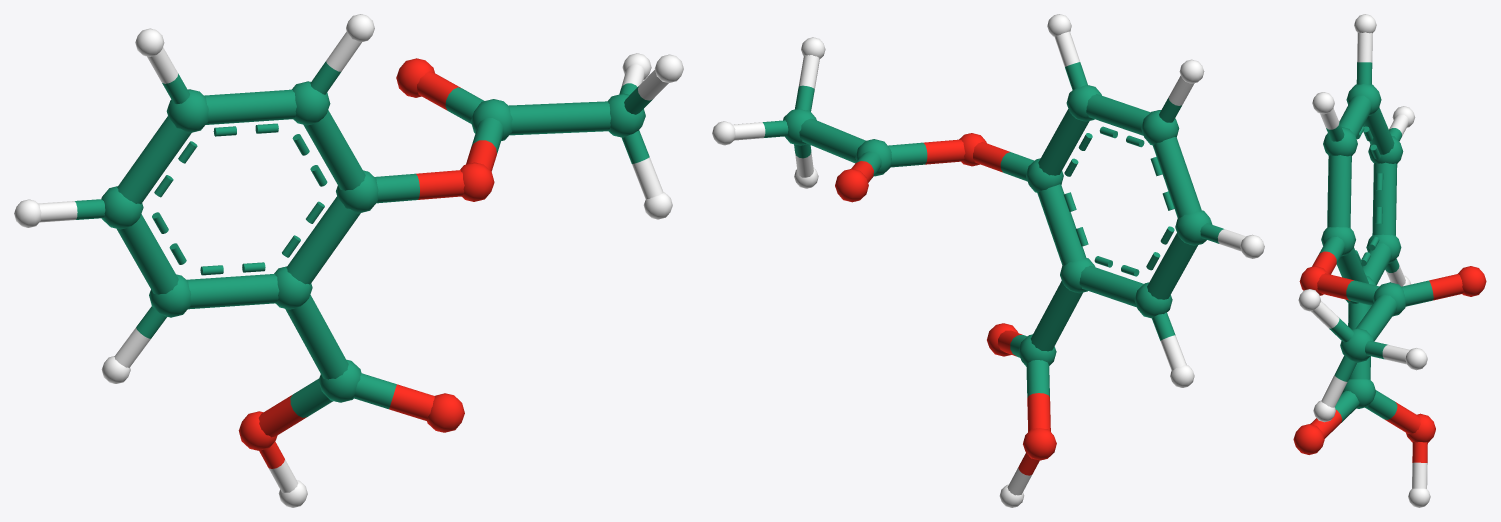
Rendered from pubchem-aspirin-xyz-default.obj.
The picture shows the model from 3 angles, left to right: view 1: azimuth 30°, elevation 25°; view 2: azimuth 150°, elevation 25°; view 3: azimuth 270°, elevation 25°; orthographic projection. The views are drawn at different scales.
Size of the model in its own units: 8.37 by 6.81 by 2.81.
